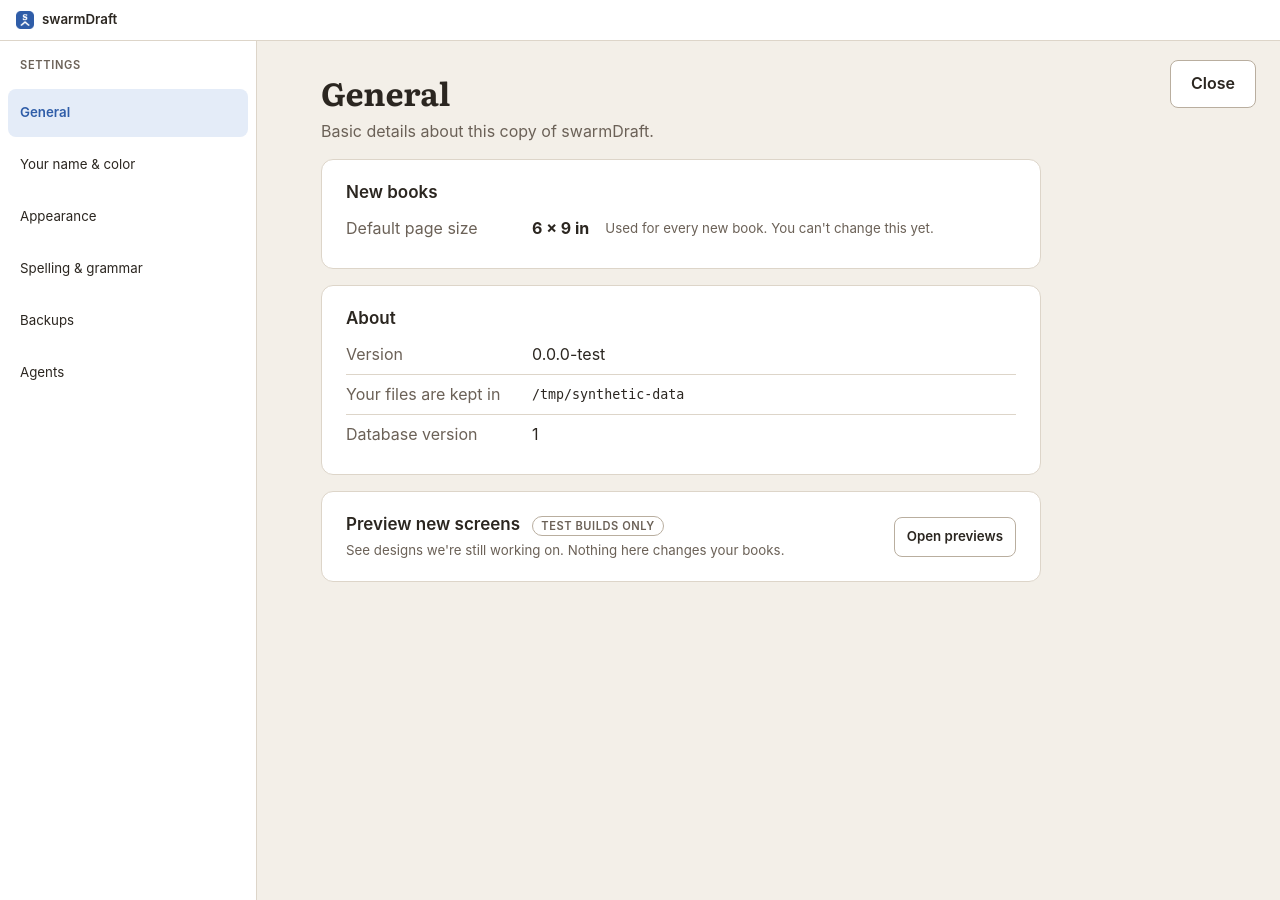
Settings screen (#99) › has six sections in order, one shown at a time
Expected: the element with test id "settings-general" is shown, [321,73,1041,582]
Click the button with test id "settings-nav-backups". click: [128, 321]
box: [8,297,248,345]
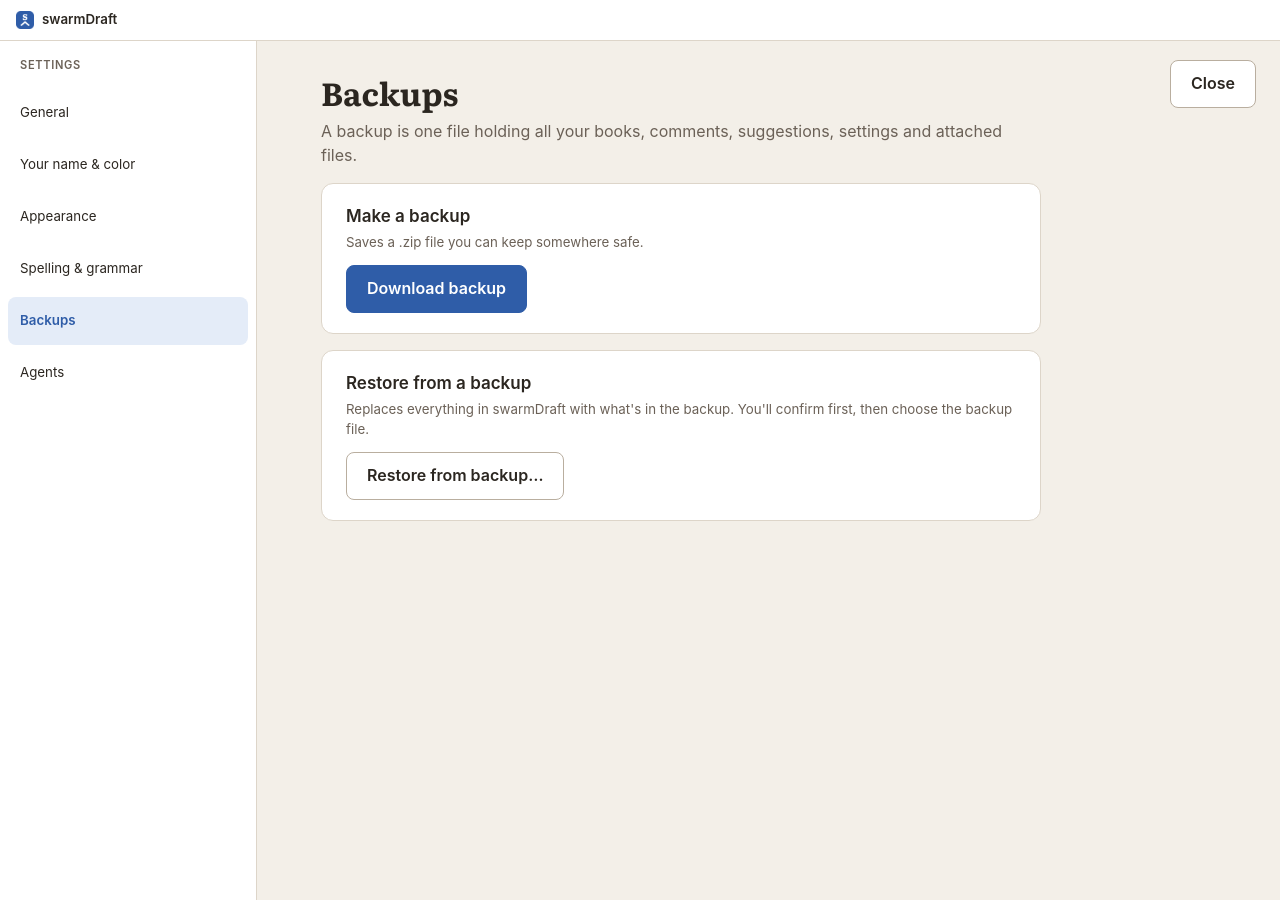
Expected: the element with test id "settings-backups" is shown, [321,73,1041,557]
Expected: the element with test id "settings-general" is gone
